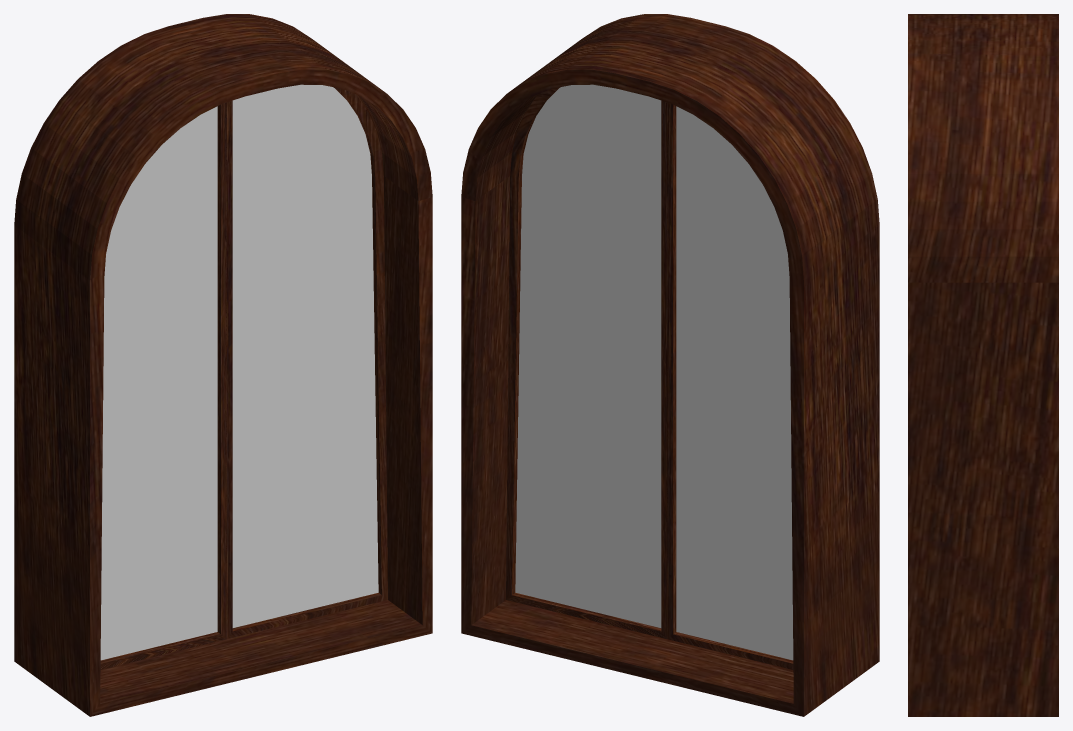
The model's file is window_circle.fbx.
The picture shows the model from 3 angles, left to right: view 1: azimuth 30°, elevation 25°; view 2: azimuth 150°, elevation 25°; view 3: azimuth 270°, elevation 25°; orthographic projection.
Parts seen in each view (by area): view 1: window_circle, window_glass_left, window_glassright, window_frame_left, window_frame_right; view 2: window_circle, window_glass_left, window_glassright, window_frame_left, window_frame_right; view 3: window_circle.
Boxes of the visible parts, <box> form: window_circle: <box>14,14,432,716</box>; window_glass_left: <box>232,84,378,627</box>; window_glassright: <box>100,106,217,660</box>; window_frame_left: <box>226,87,387,638</box>; window_frame_right: <box>100,102,226,669</box>; window_circle: <box>461,14,879,716</box>; window_glass_left: <box>515,84,661,627</box>; window_glassright: <box>676,106,793,660</box>; window_frame_left: <box>506,87,667,638</box>; window_frame_right: <box>667,102,793,669</box>; window_circle: <box>908,14,1058,716</box>.
Size of the model in its own units: 120 by 200 by 46.
